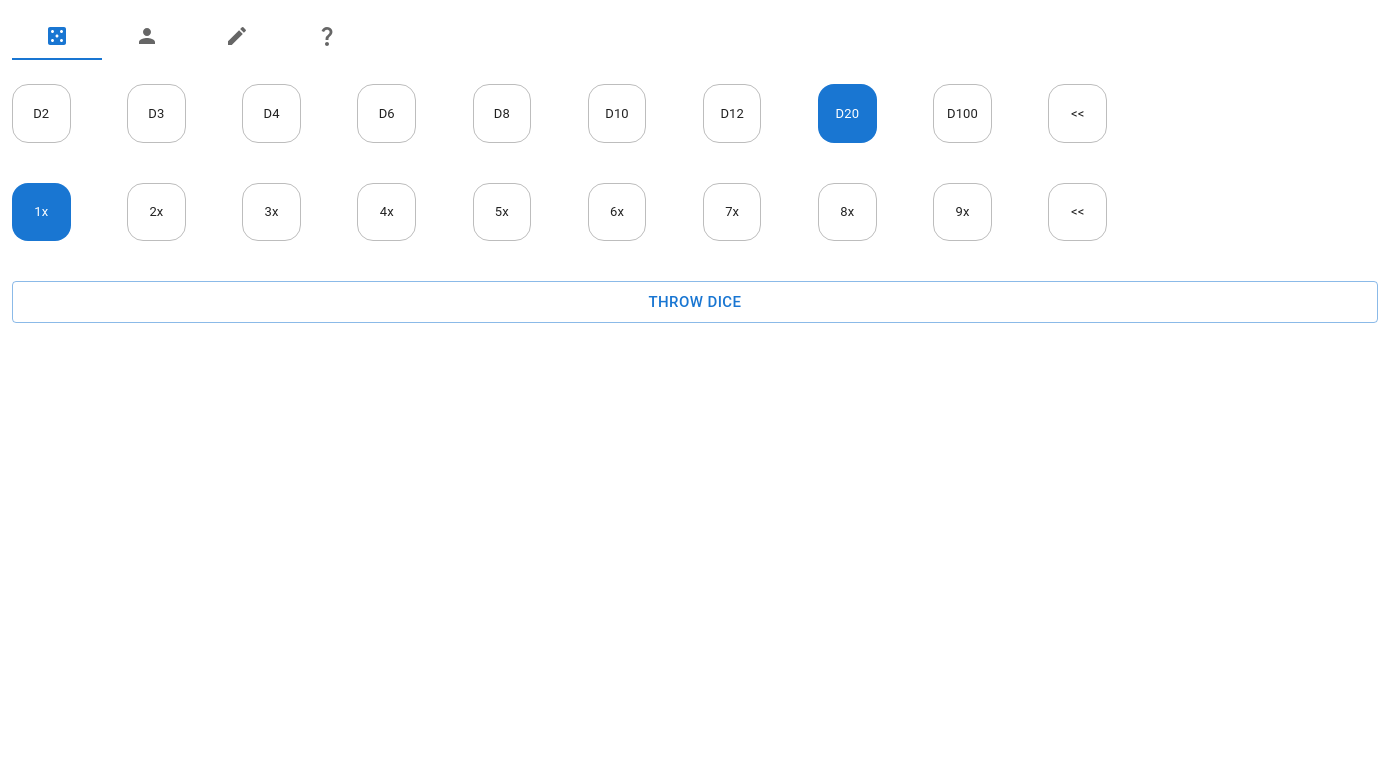
it: change tab to character sheet
Click the tab with test id "PersonIcon" at (147, 36), box 102,12 -> 192,60
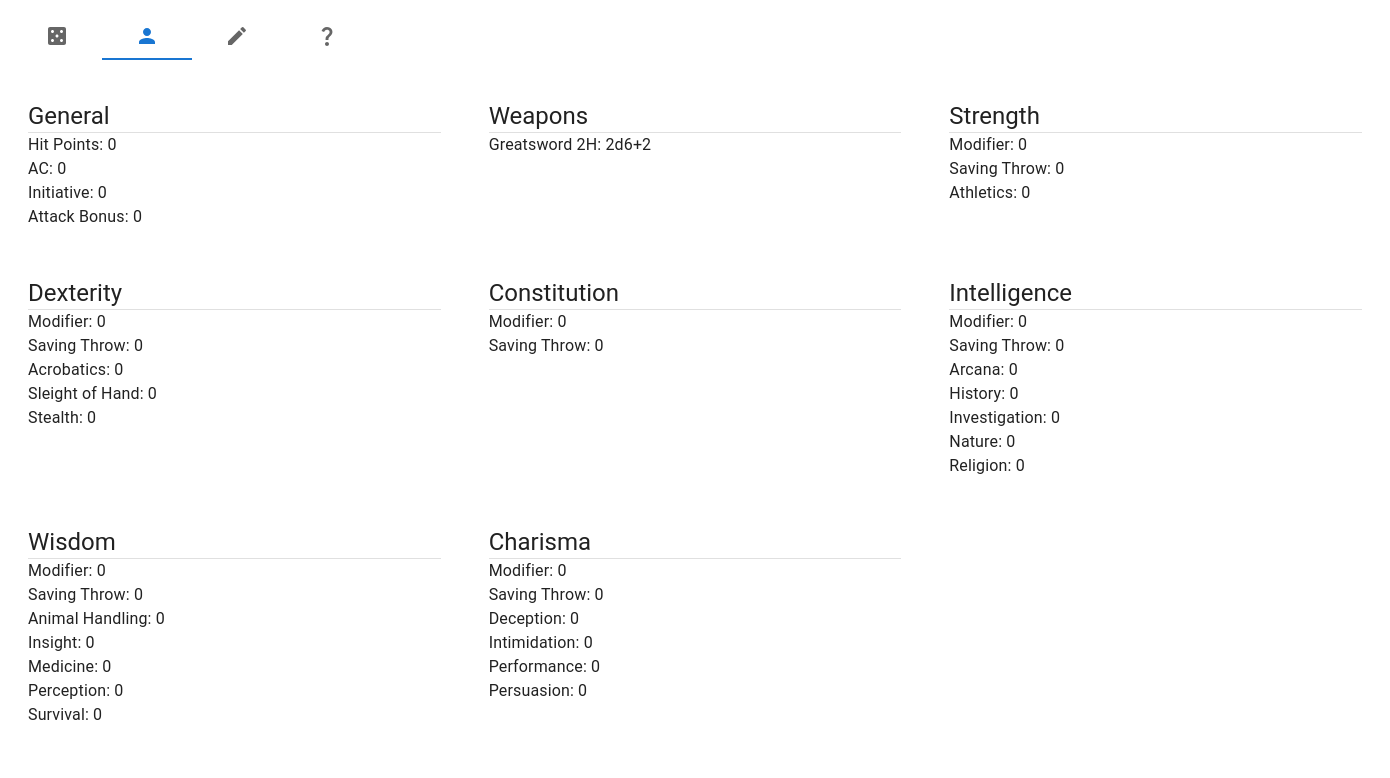
Now the heading "Strength" is shown, box 949,102 -> 1040,130
